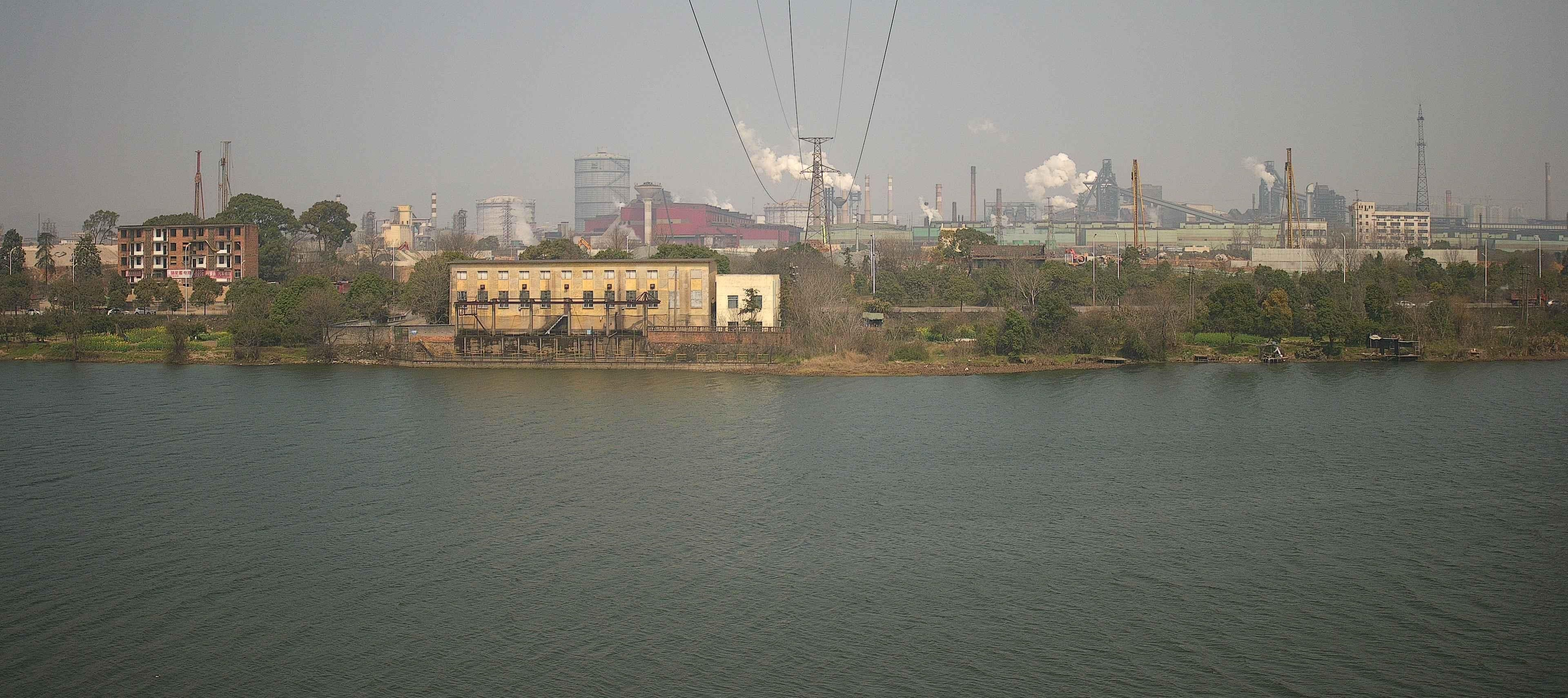工厂排烟: (732, 119, 835, 189), (1023, 152, 1098, 214), (788, 124, 850, 191), (806, 148, 861, 193), (669, 187, 739, 213), (508, 197, 541, 248), (1240, 155, 1276, 192), (918, 194, 942, 227), (1144, 203, 1165, 225), (608, 223, 638, 238), (988, 213, 1013, 227), (610, 197, 626, 212)
